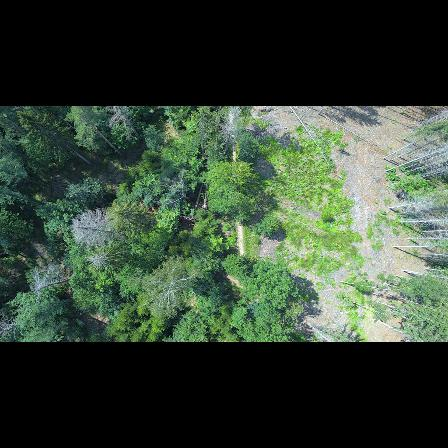Dead: (143, 258, 199, 315), (70, 206, 120, 246), (24, 266, 69, 302), (107, 106, 139, 146), (220, 106, 245, 154), (83, 250, 116, 274), (0, 314, 24, 343)
